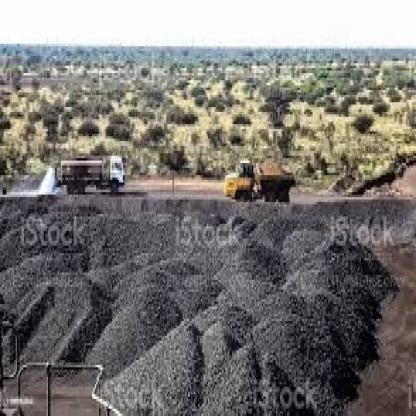dump_truck: (221, 144, 297, 228)
